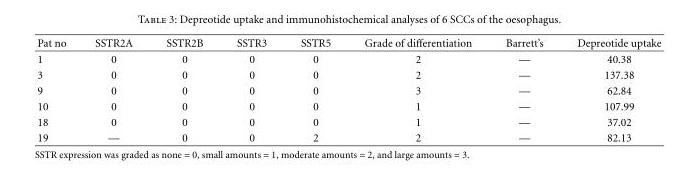table: (36, 36, 660, 143)
table column: (346, 36, 488, 143), (559, 36, 660, 143), (148, 36, 219, 143), (488, 36, 559, 143), (79, 36, 148, 143), (219, 36, 283, 143), (283, 36, 346, 143), (36, 36, 79, 143)
table column header: (36, 36, 660, 50)
table row: (36, 50, 660, 66), (36, 66, 660, 82), (36, 82, 660, 98), (36, 113, 660, 129), (36, 98, 660, 113), (36, 36, 660, 50), (36, 129, 660, 143)
